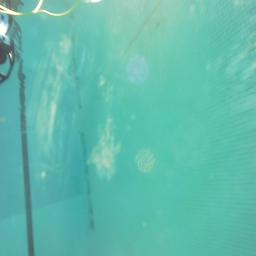back: (0, 0, 14, 85)
